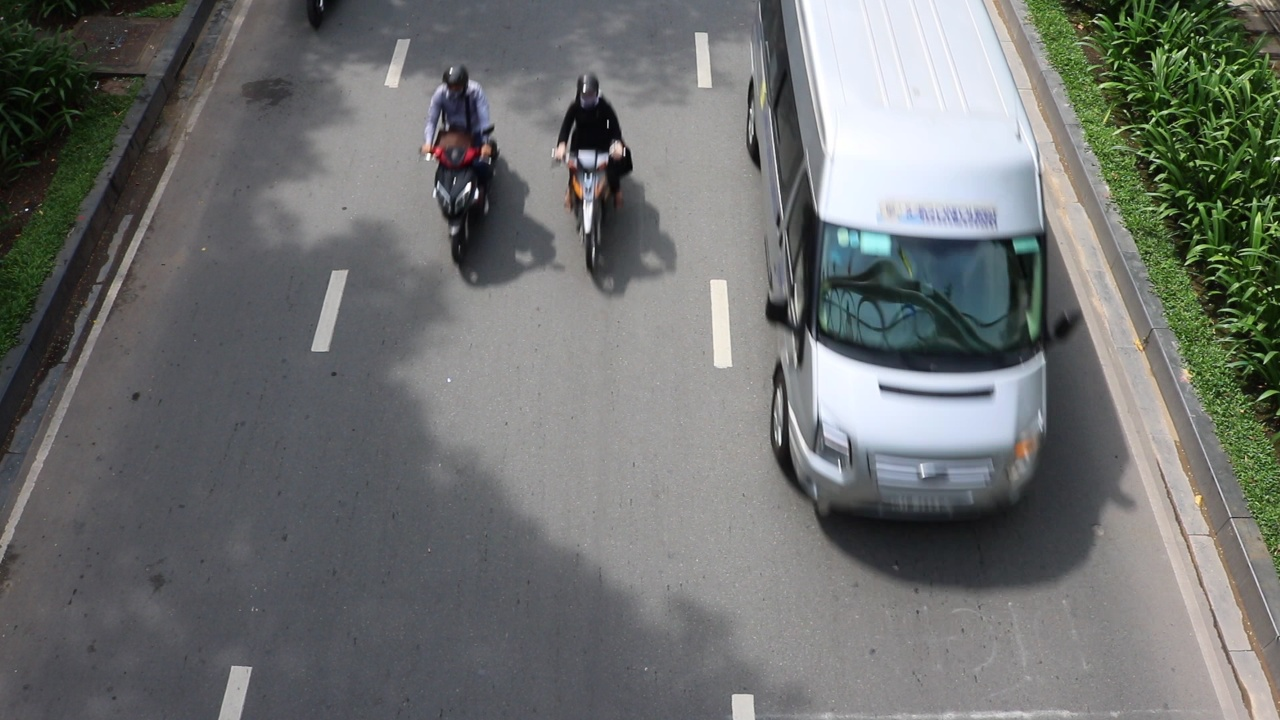motorcycle: (422, 126, 497, 278), (557, 145, 630, 265)
